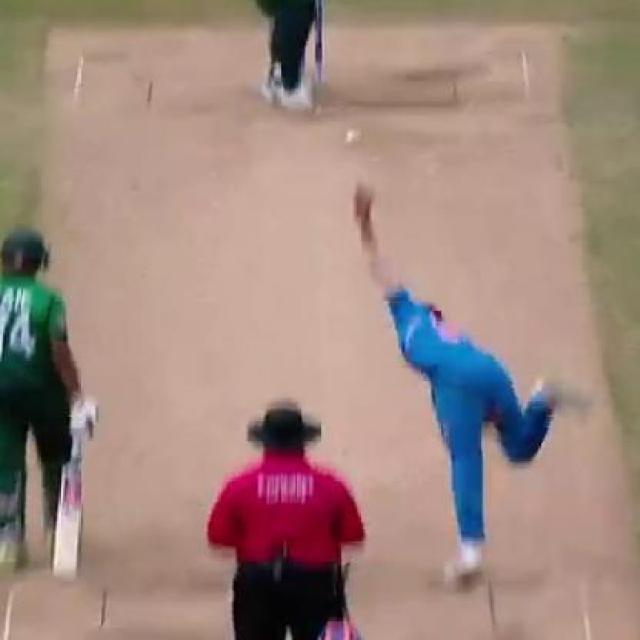Cricket ball: (346, 128, 362, 149)
